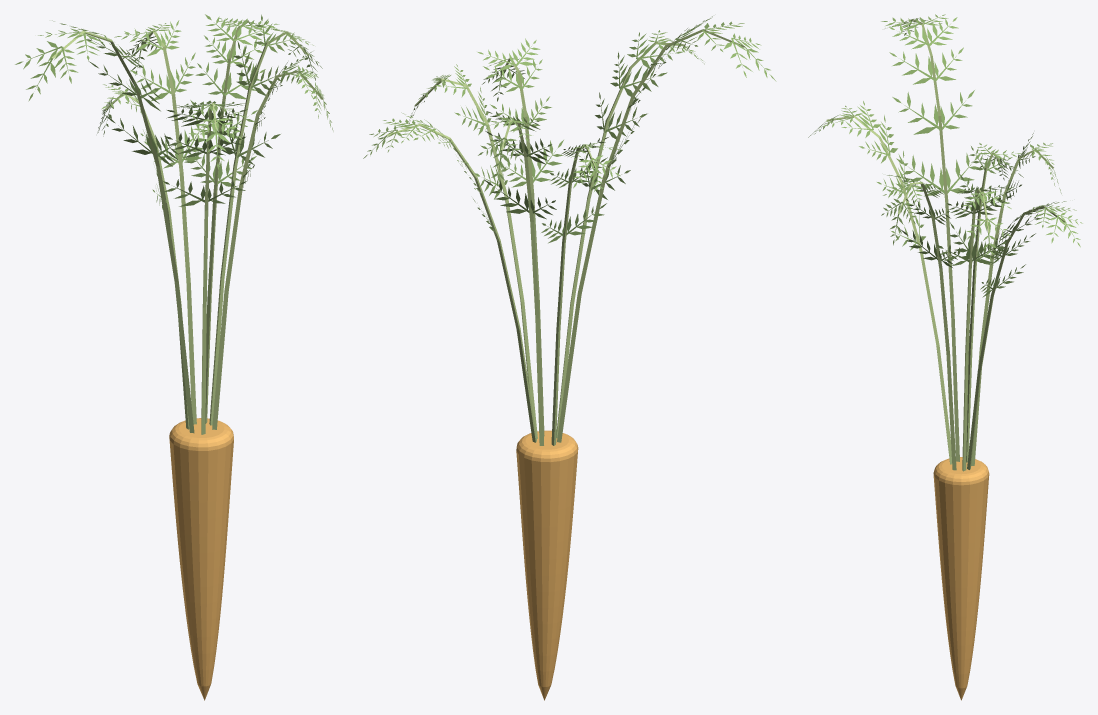
The model's file is carrot_harvest_v13.glb.
The picture shows the model from 3 angles, left to right: view 1: azimuth 30°, elevation 25°; view 2: azimuth 150°, elevation 25°; view 3: azimuth 270°, elevation 25°; orthographic projection. The views are drawn at different scales.
Visible parts, largest first — view 1: plant; view 2: plant; view 3: plant.
Boxes of the visible parts, box(x1,y1,x2,y2) form: plant: box(15, 14, 333, 700); plant: box(363, 16, 776, 700); plant: box(808, 14, 1082, 700).
Size of the model in its own units: 0.2131 by 0.4316 by 0.1762.
1 material, 1 textured.
